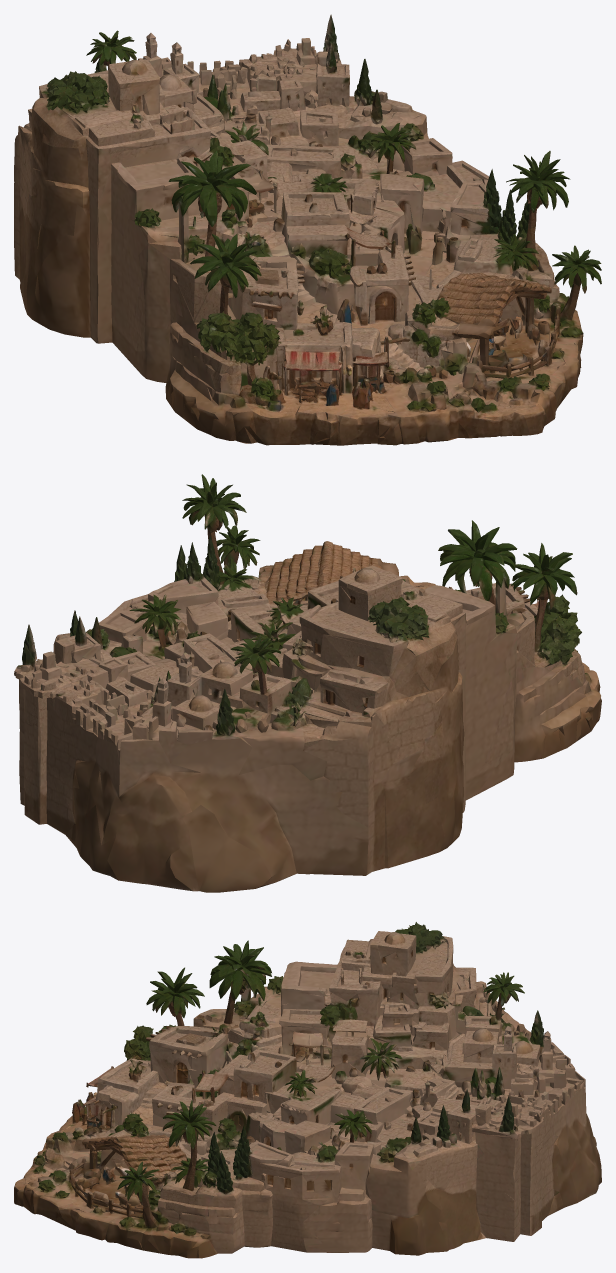
The model's file is bethlehem.glb.
The picture shows the model from 3 angles, top to bottom: view 1: azimuth 30°, elevation 25°; view 2: azimuth 150°, elevation 25°; view 3: azimuth 270°, elevation 25°; orthographic projection. The views are drawn at different scales.
Visible parts, largest first — view 1: output_unwrapped; view 2: output_unwrapped; view 3: output_unwrapped.
Part boxes in pixels (left/top/right/bottom): output_unwrapped: left=14, top=14, right=601, bottom=445; output_unwrapped: left=14, top=474, right=601, bottom=892; output_unwrapped: left=14, top=922, right=601, bottom=1258.
Size of the model in its own units: 1.24 by 0.7158 by 1.9.
1 material, 1 textured.
